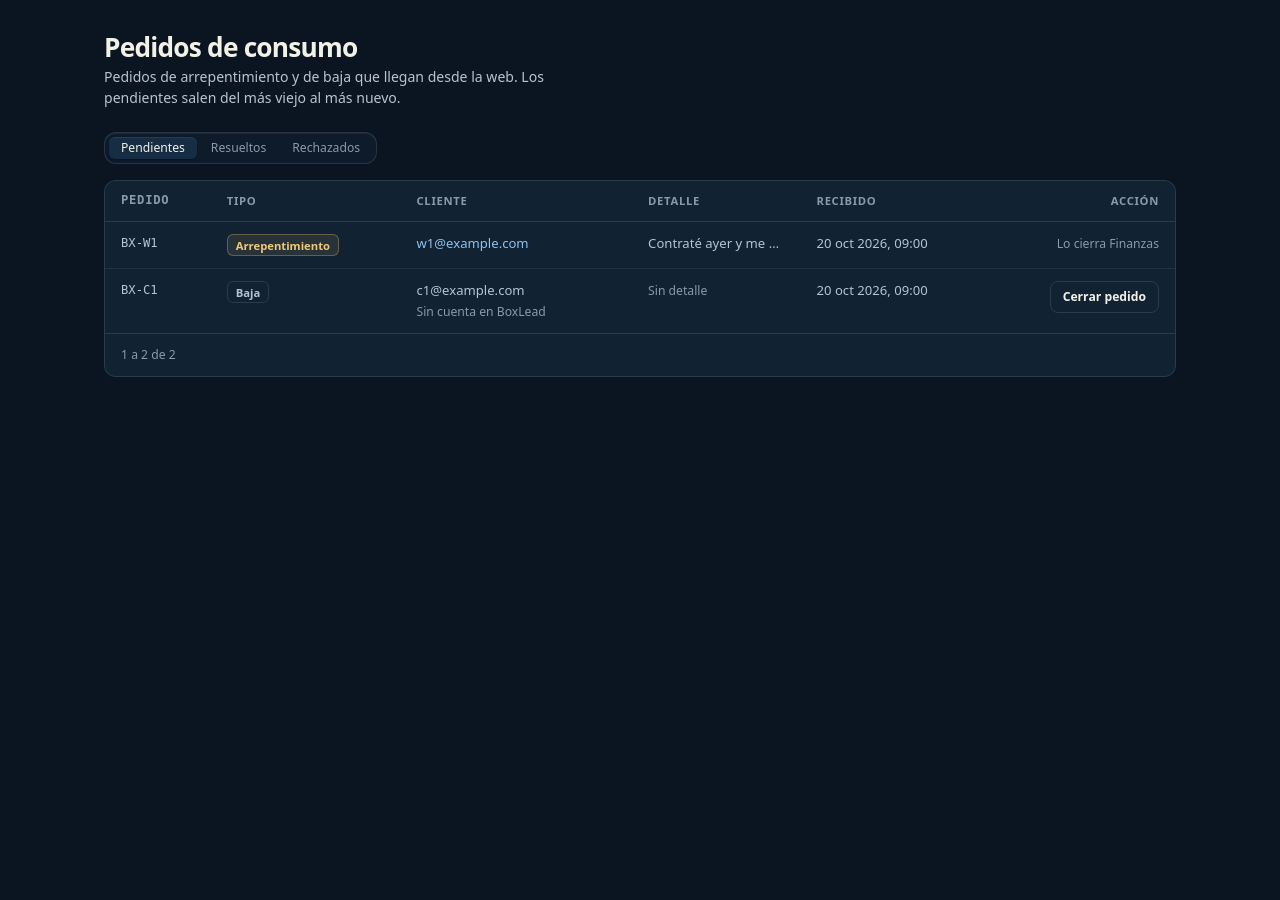
Test: ConsumerRequestsScreen › says a rejection does not cancel or refund
The width and height of the screenshot is (1280, 900).
Step 1. Click the button "Cerrar pedido" → x=1104, y=297, box [1050,281,1159,313]
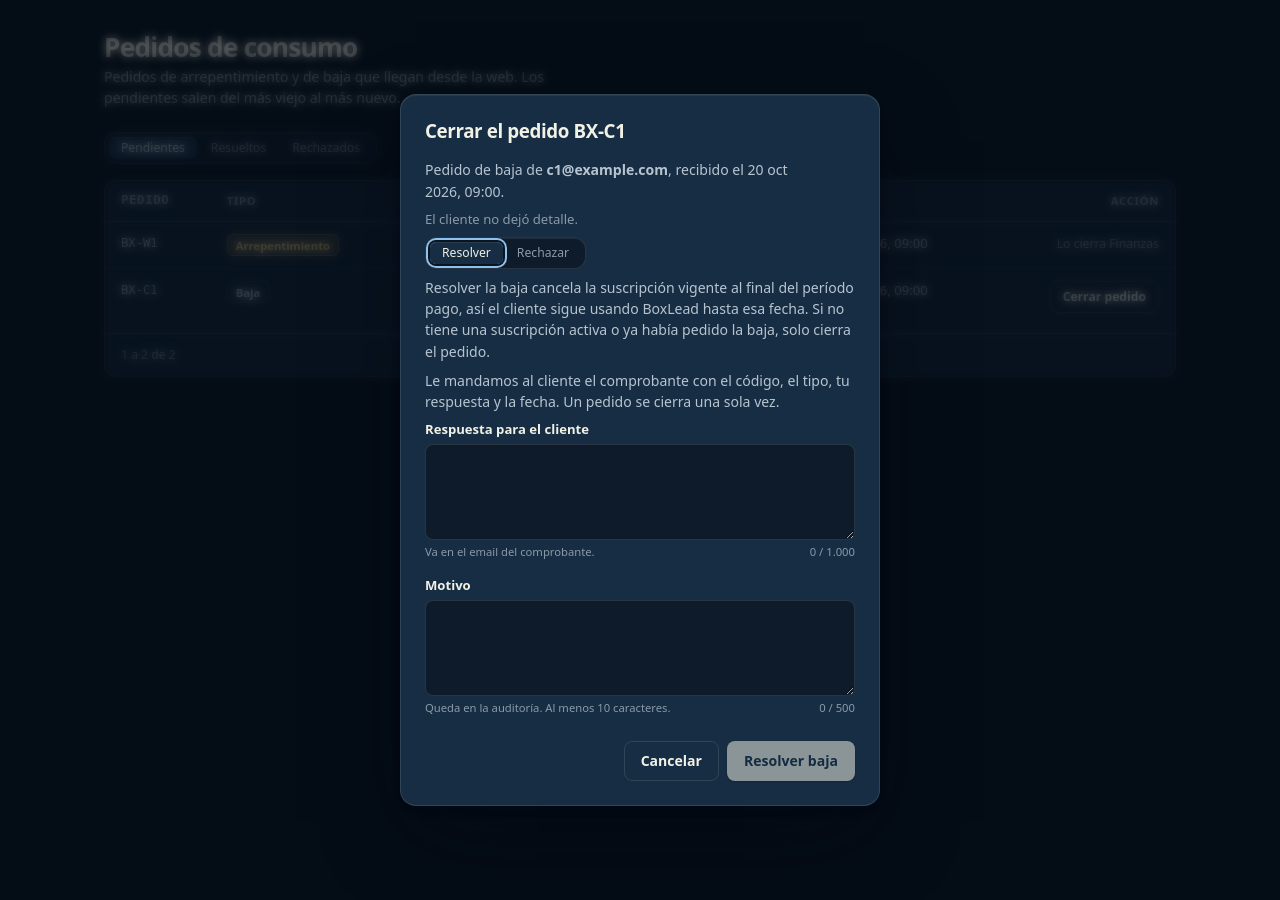
Expected: the text "cancela la suscripción vigente al final del período pago" is shown, [425,278,854,361]
Step 2. Click the button "Rechazar" → x=543, y=253, box [505,242,581,264]
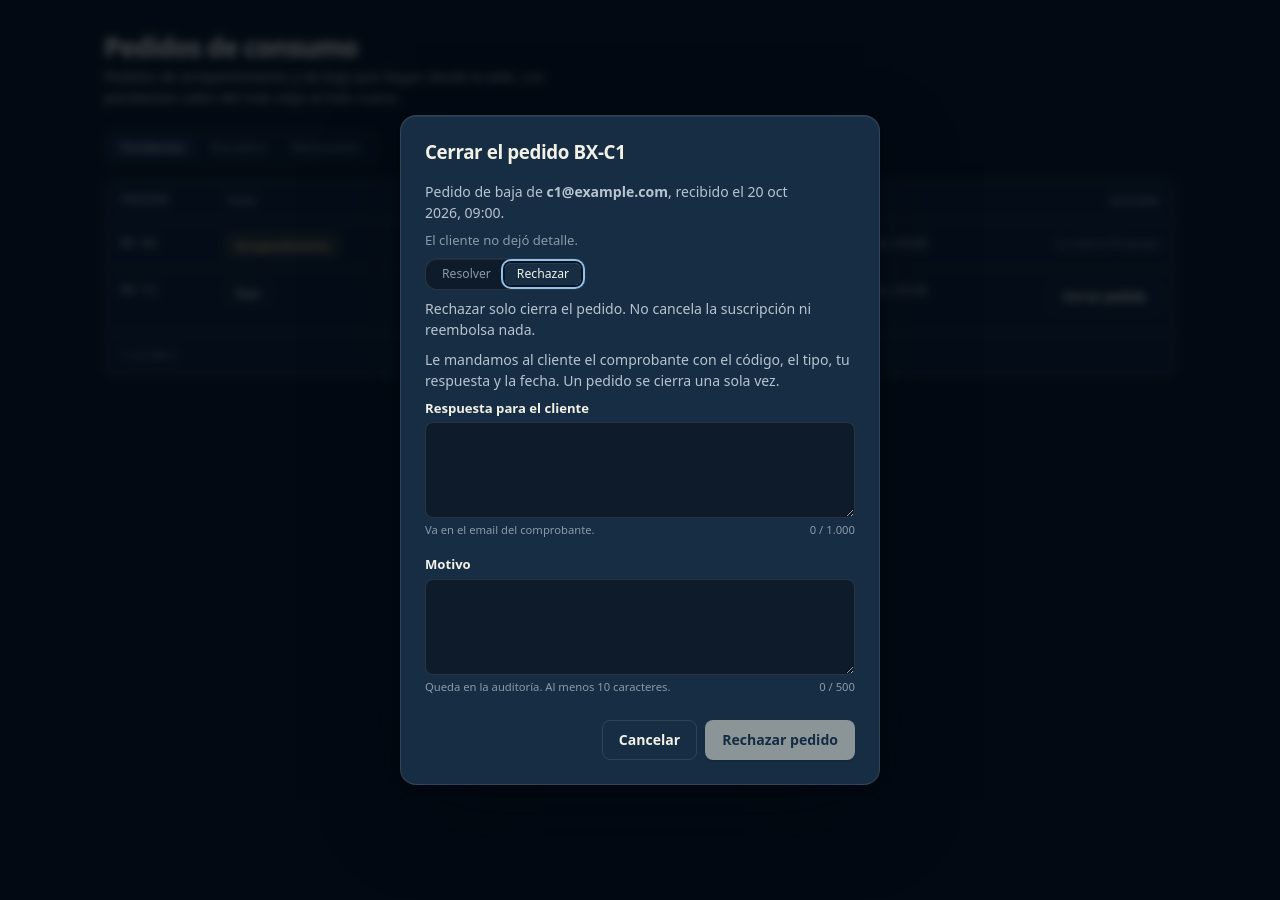
Expected: the text "Rechazar solo cierra el pedido. No cancela la suscripción ni reembolsa nada." is shown, [425,298,855,341]
